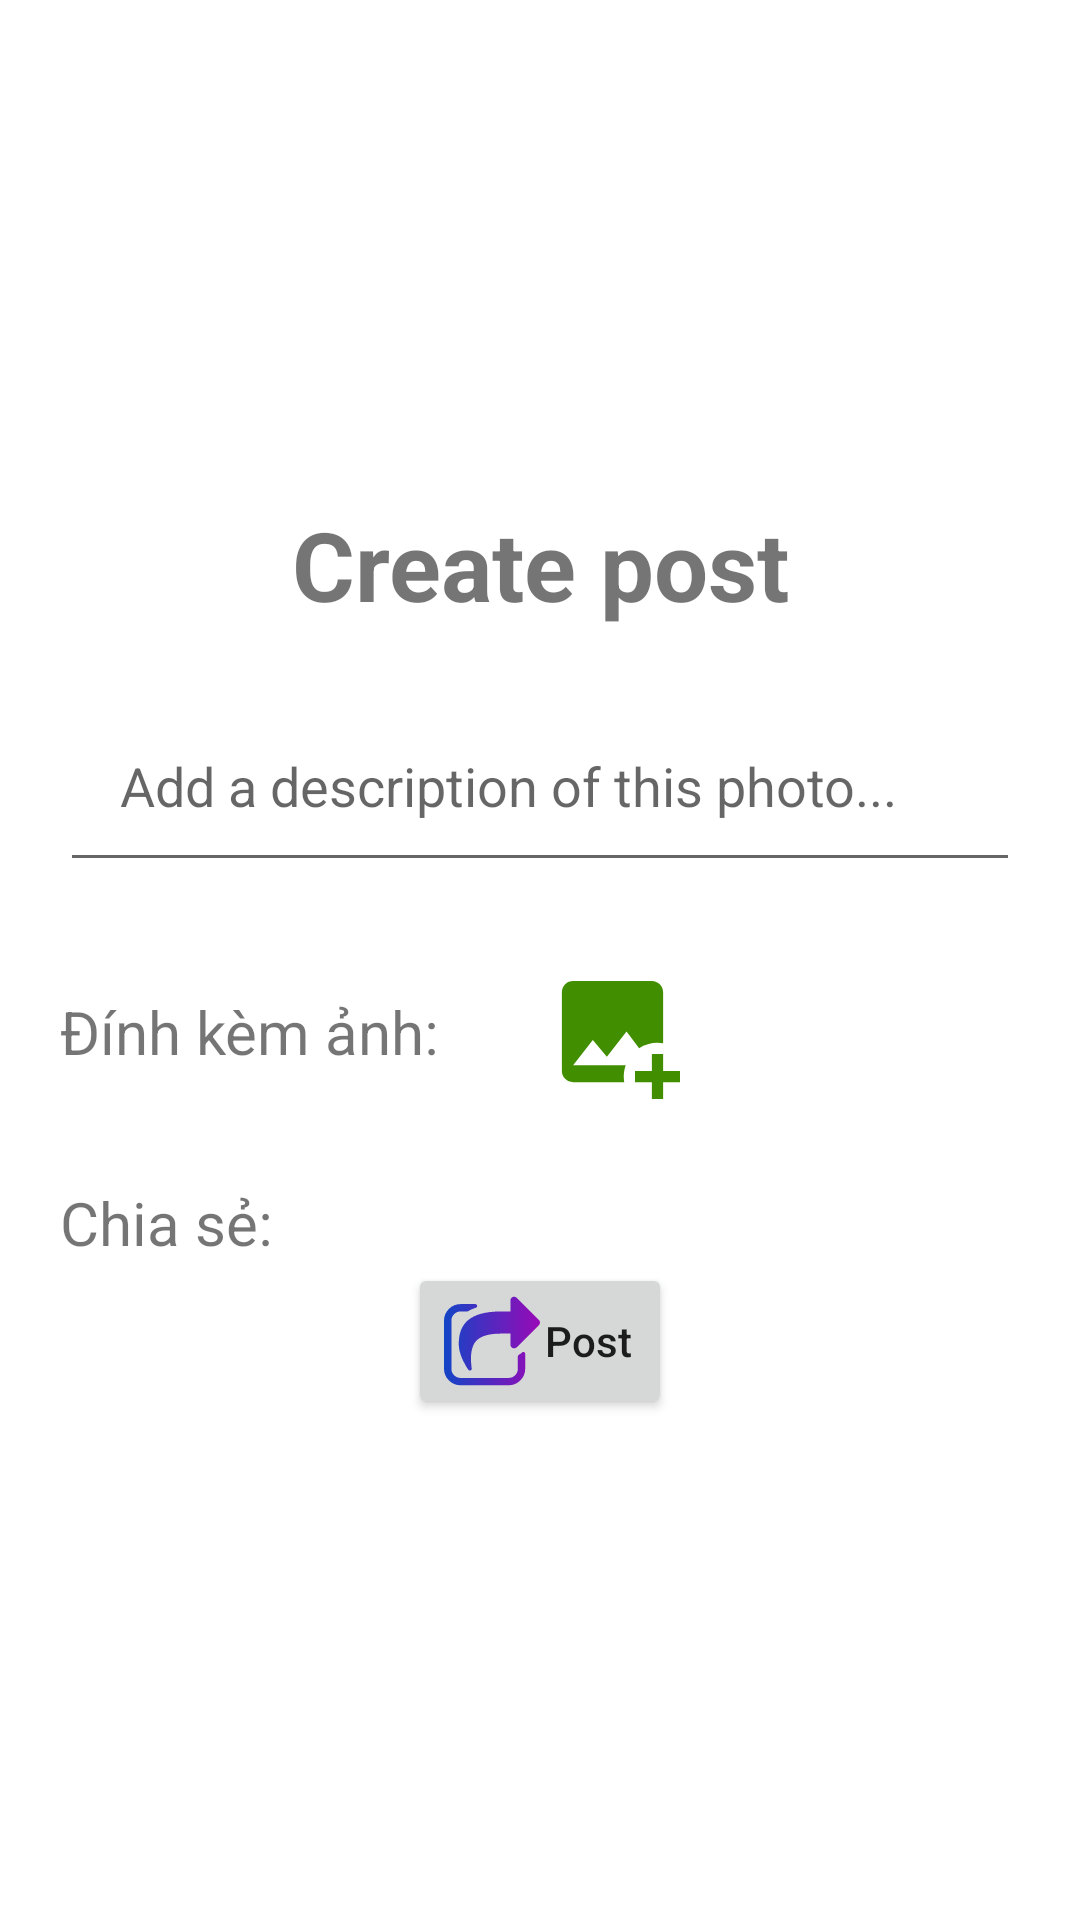

Locate icon controls on the screen. Image size 1080 x 1920, boxes as (x1,y1,x2,y2).
plus: (561,981,680,1099)
